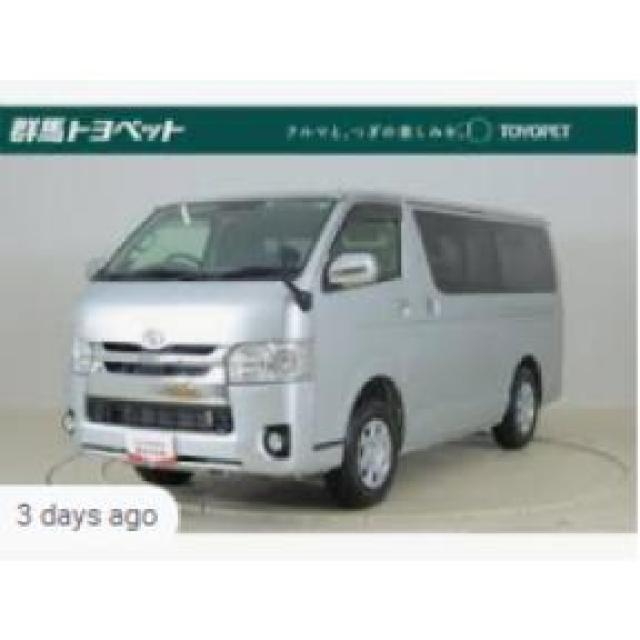Van: (59, 185, 564, 509)
